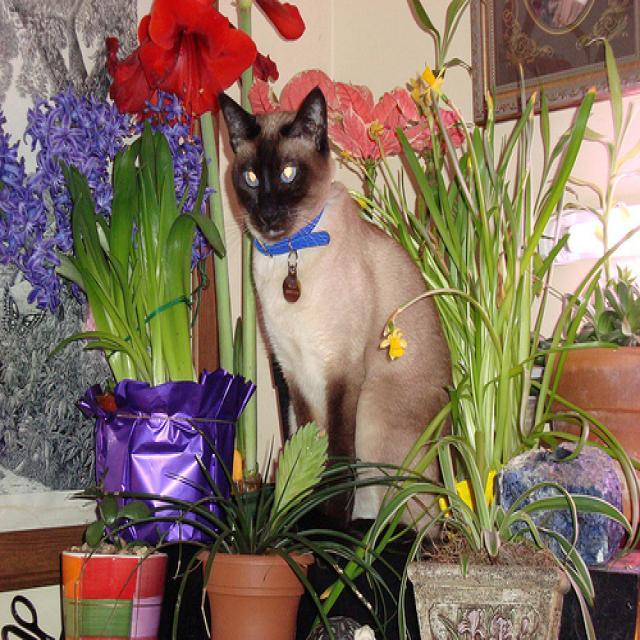Siamese: (217, 84, 327, 241)
